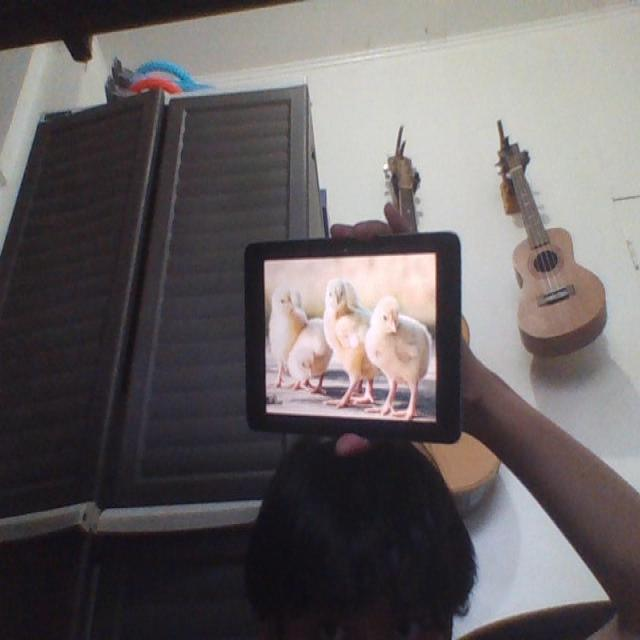Healthy: (365, 297, 427, 418), (325, 284, 374, 409), (268, 287, 300, 366)
Sick: (289, 312, 329, 397)
